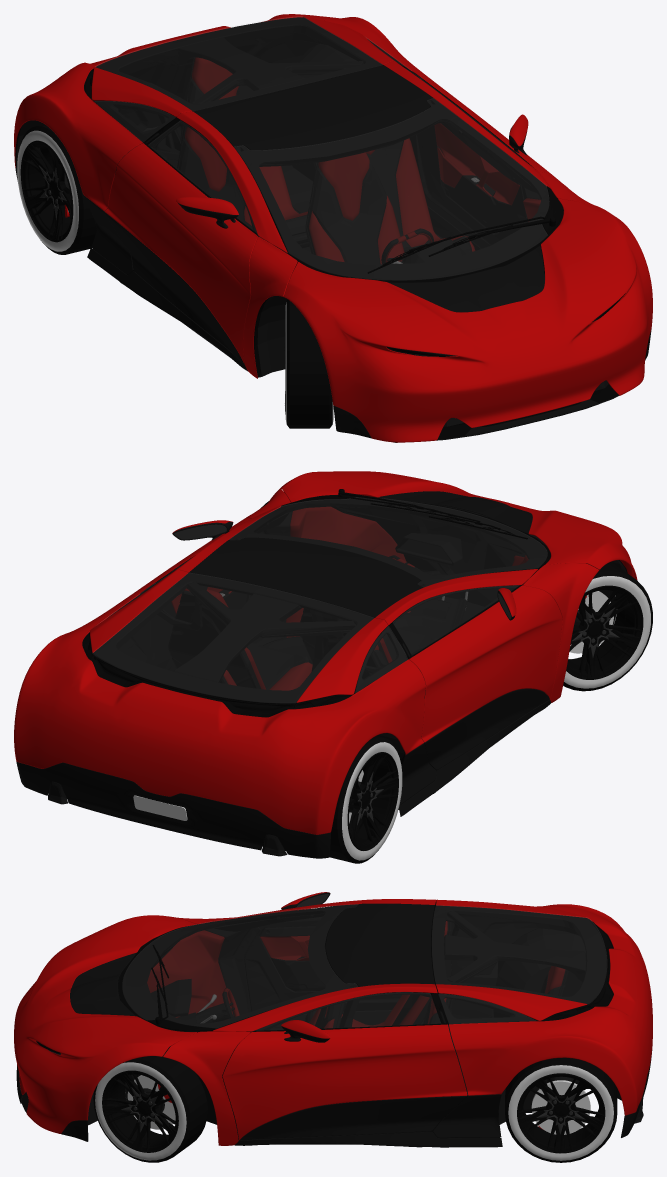
Rendered from concept_car.obj.
The picture shows the model from 3 angles, top to bottom: view 1: azimuth 30°, elevation 25°; view 2: azimuth 150°, elevation 25°; view 3: azimuth 270°, elevation 25°; orthographic projection. The views are drawn at different scales.
Parts seen in each view (by area): view 1: BodyHood, BodyDoorRColor1, BodyRearPanelsColor1, BodyRoofPanel, BodyWindshieldGasket, InteriorSeatsColor1, InteriorSeatsColor2, BodyPillars, InteriorPillar, InteriorRearHatch, BodyPanelsColor2, BodyHoodTopgrill (+16 smaller); view 2: BodyRearPanelsColor1, BodyDoorRColor1, BodyPanelsColor2, BodyRoofPanel, BodyHood, InteriorRearHatch, BodyPillars, InteriorPillar, BodyWindshieldGasket, InteriorDashMid, WheelFrontRRim, BodyDoorRColor2 (+18 smaller); view 3: BodyRearPanelsColor1, BodyDoorLColor1, BodyHood, BodyRoofPanel, BodyPillars, BodyWindshieldGasket, BodyDoorLColor2, BodyPanelsColor2, node84, InteriorRearHatch, WheelRearLRim, WheelFrontLRim (+21 smaller).
Part boxes in pixels (x1,y1,x2,y2): BodyHood: (283, 198, 652, 442); BodyDoorRColor1: (104, 143, 257, 362); BodyRearPanelsColor1: (14, 14, 428, 210); BodyRoofPanel: (193, 65, 432, 150); BodyWindshieldGasket: (234, 99, 563, 282); InteriorSeatsColor1: (185, 57, 475, 264); InteriorSeatsColor2: (180, 78, 472, 264); BodyPillars: (176, 61, 598, 378); InteriorPillar: (158, 37, 434, 168); InteriorRearHatch: (93, 17, 383, 117); BodyPanelsColor2: (15, 126, 651, 438); BodyHoodTopgrill: (388, 245, 544, 312); BodyRearPanelsColor1: (14, 569, 425, 834); BodyDoorRColor1: (409, 585, 562, 742); BodyPanelsColor2: (16, 700, 550, 858); BodyRoofPanel: (189, 537, 422, 617); BodyHood: (279, 471, 637, 579); InteriorRearHatch: (93, 573, 386, 707); BodyPillars: (175, 489, 599, 702); InteriorPillar: (174, 574, 417, 682); BodyWindshieldGasket: (230, 497, 550, 587); InteriorDashMid: (331, 503, 528, 622); WheelFrontRRim: (566, 585, 643, 679); BodyDoorRColor2: (424, 688, 549, 769); BodyRearPanelsColor1: (436, 899, 652, 1115); BodyDoorLColor1: (222, 1024, 467, 1139); BodyHood: (14, 915, 196, 1133); BodyRoofPanel: (326, 903, 434, 986); BodyPillars: (163, 899, 437, 1145); BodyWindshieldGasket: (118, 905, 357, 1032); BodyDoorLColor2: (240, 1096, 467, 1140); BodyPanelsColor2: (16, 1050, 652, 1147); node84: (93, 1054, 207, 1162); InteriorRearHatch: (431, 905, 606, 1020); WheelRearLRim: (517, 1073, 605, 1153); WheelFrontLRim: (102, 1070, 178, 1152).
Bounding box in the file's own units: 2.54 × 1.15 × 4.36.
